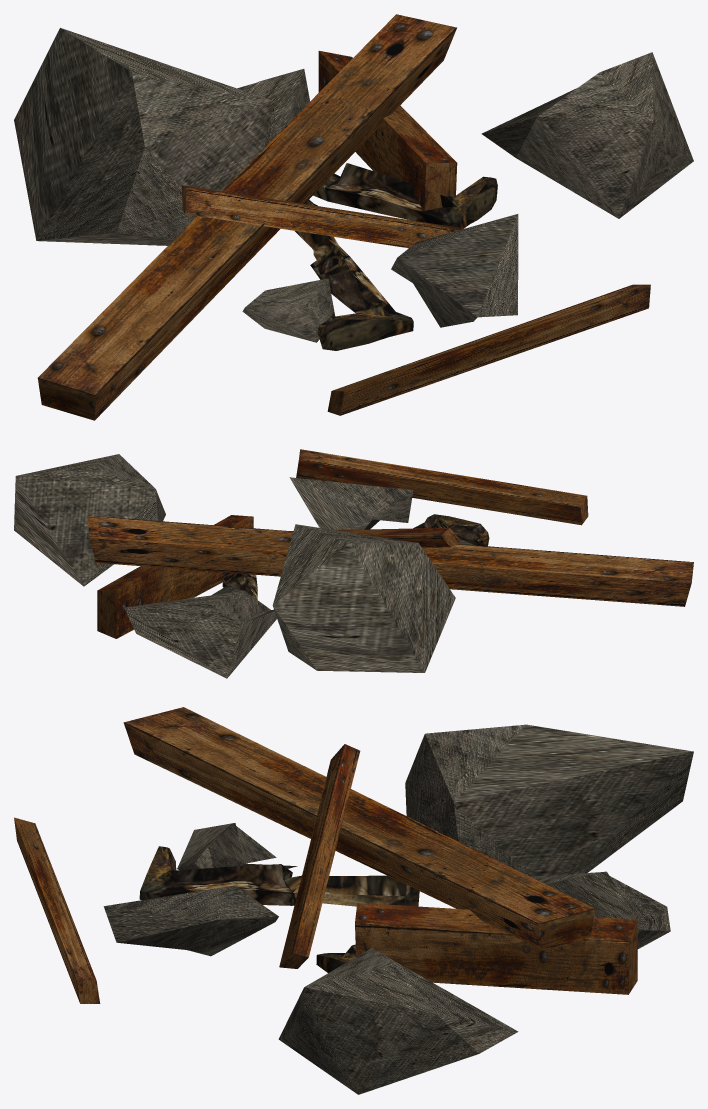
File: mm9_deco_skeletondebris03.glb
The picture shows the model from 3 angles, top to bottom: view 1: azimuth 30°, elevation 25°; view 2: azimuth 150°, elevation 25°; view 3: azimuth 270°, elevation 25°; orthographic projection. The views are drawn at different scales.
Parts seen in each view (by area): view 1: Skeletondebris03; view 2: Skeletondebris03; view 3: Skeletondebris03.
Part boxes in pixels (bbox=[...]): Skeletondebris03: bbox=[14, 14, 693, 420]; Skeletondebris03: bbox=[14, 449, 693, 678]; Skeletondebris03: bbox=[14, 707, 693, 1094].
Bounding box in the file's own units: 3.14 × 0.6041 × 2.52.
2 materials, 2 textured.
